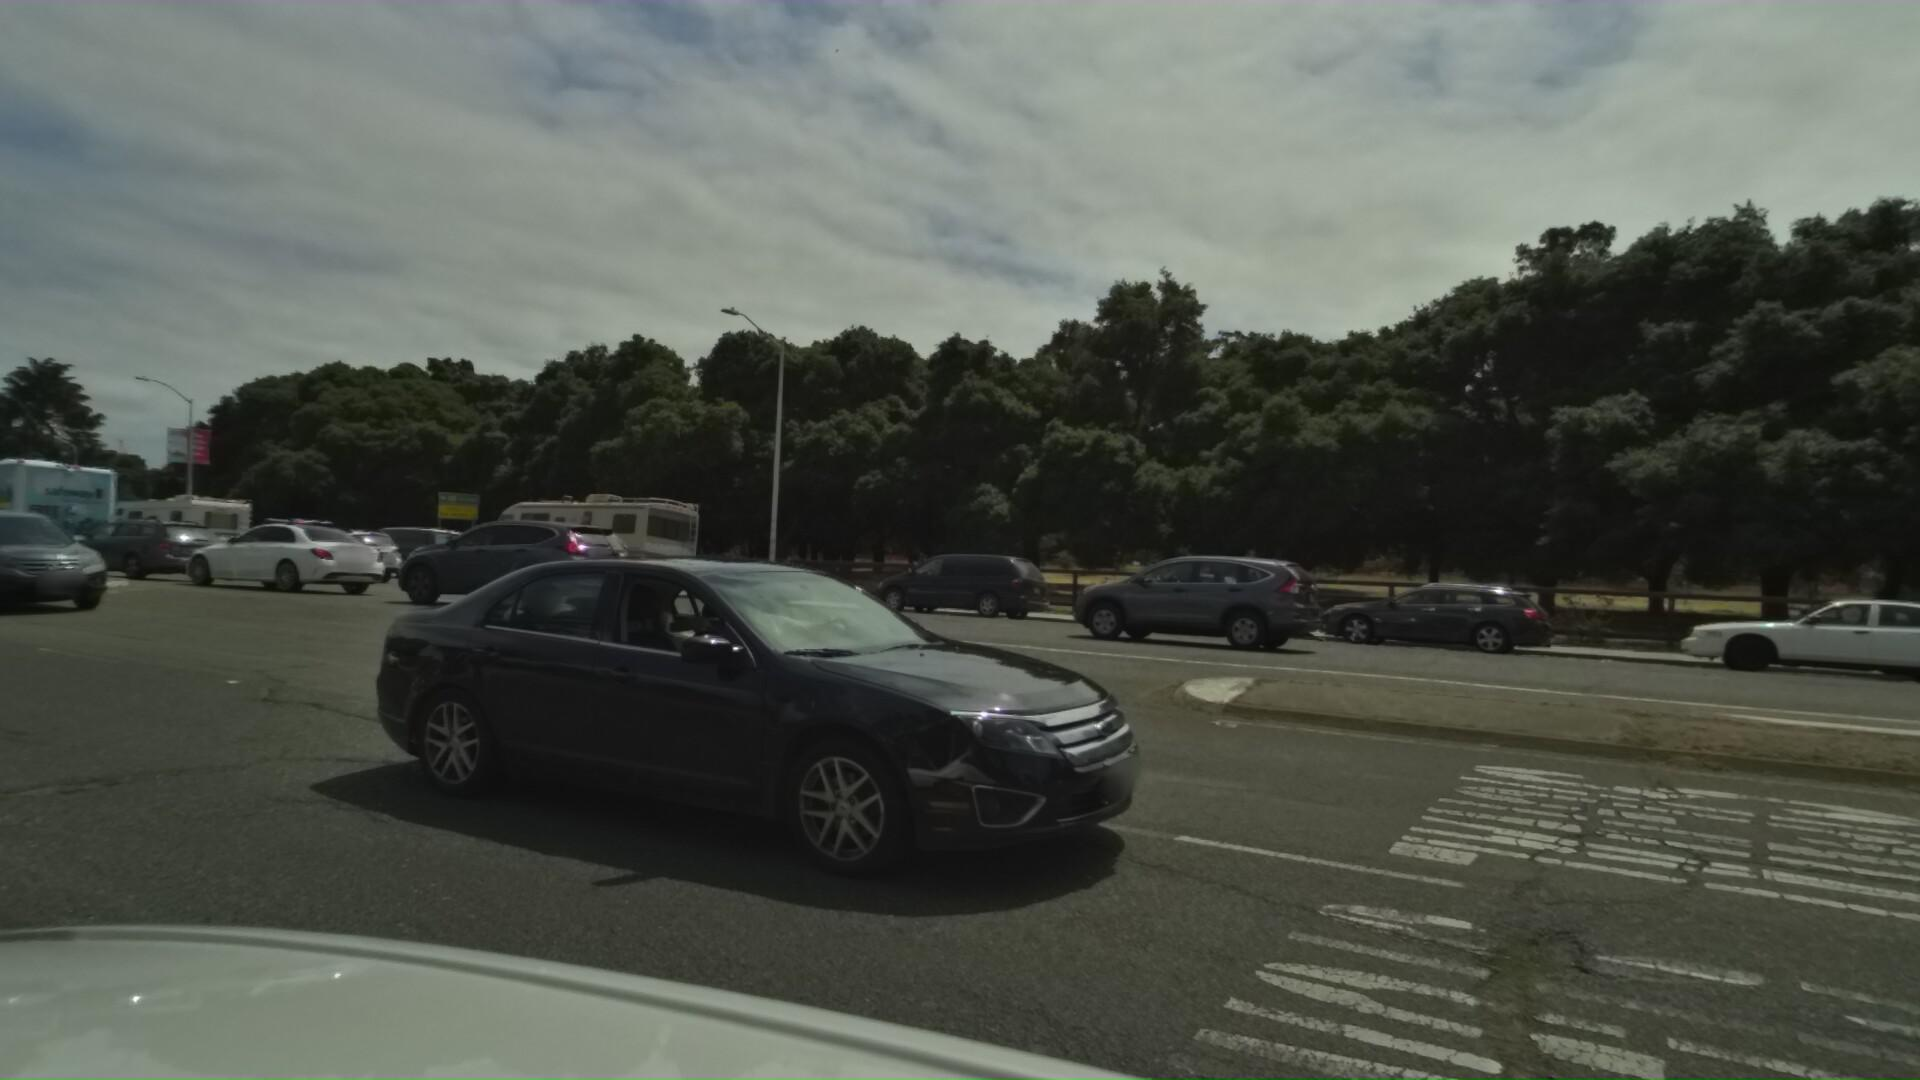car: (363, 524, 1276, 951), (1639, 584, 1920, 703), (1005, 543, 1280, 654), (363, 514, 632, 620), (167, 502, 392, 603), (1278, 576, 1534, 663), (1064, 564, 1279, 642), (843, 550, 1044, 626), (30, 513, 236, 585), (258, 524, 397, 585), (345, 526, 473, 580)
other_vehicle: (465, 493, 702, 592), (105, 489, 260, 564)
